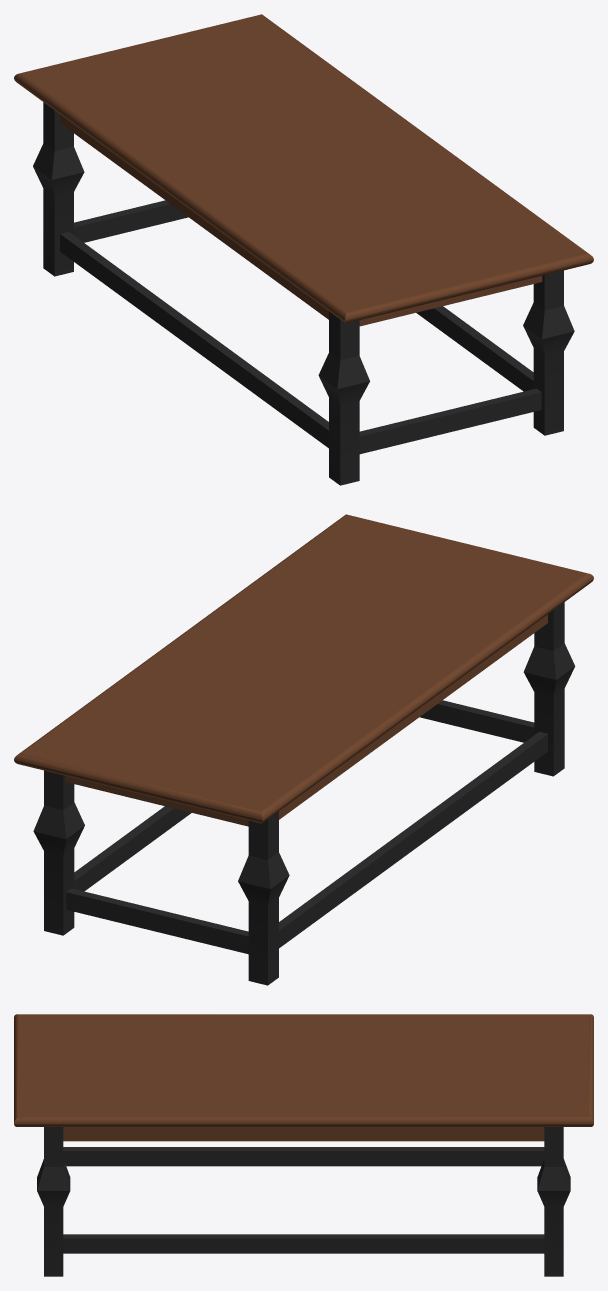
File: GrandeTable_64.fbx
The picture shows the model from 3 angles, top to bottom: view 1: azimuth 30°, elevation 25°; view 2: azimuth 150°, elevation 25°; view 3: azimuth 270°, elevation 25°; orthographic projection. The views are drawn at different scales.
Parts seen in each view (by area): view 1: pCube97, pCube99, polySurface27, polySurface24, polySurface26, pCube101, pCube98, pCube100; view 2: pCube97, pCube99, polySurface26, polySurface25, polySurface27, pCube100, pCube98, pCube101; view 3: pCube97, pCube98, pCube99, polySurface25, polySurface24.
Part boxes in pixels (bbox=[...]): pCube97: bbox=[14, 14, 593, 326]; pCube99: bbox=[60, 232, 328, 448]; polySurface27: bbox=[318, 311, 369, 485]; polySurface24: bbox=[523, 270, 574, 435]; polySurface26: bbox=[33, 102, 84, 276]; pCube101: bbox=[359, 388, 541, 454]; pCube98: bbox=[416, 306, 533, 391]; pCube100: bbox=[74, 200, 188, 242]; pCube97: bbox=[14, 514, 593, 826]; pCube99: bbox=[279, 731, 547, 948]; polySurface26: bbox=[238, 811, 289, 985]; polySurface25: bbox=[33, 770, 84, 935]; polySurface27: bbox=[523, 602, 575, 776]; pCube100: bbox=[66, 888, 248, 954]; pCube98: bbox=[74, 806, 191, 891]; pCube101: bbox=[420, 700, 534, 742]; pCube97: bbox=[14, 1014, 593, 1141]; pCube98: bbox=[63, 1234, 544, 1253]; pCube99: bbox=[63, 1147, 544, 1166]; polySurface25: bbox=[537, 1127, 570, 1276]; polySurface24: bbox=[37, 1127, 70, 1276].
Bounding box in the file's own units: 56.23 × 40.23 × 130.
